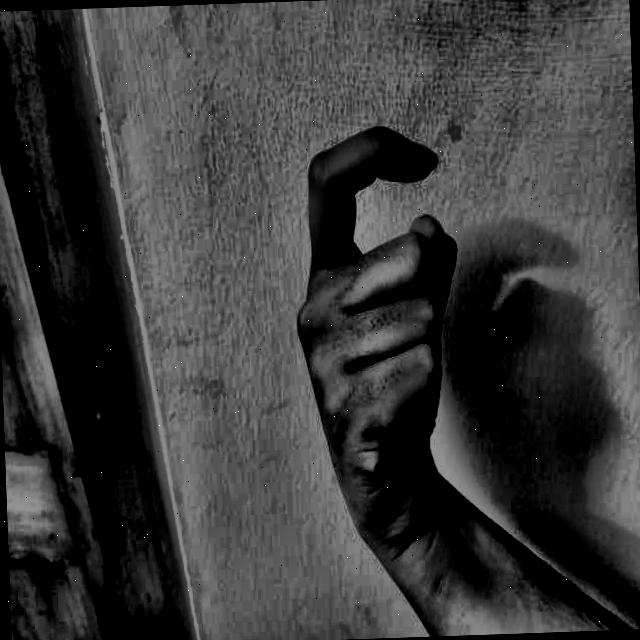E: (264, 77, 537, 554)
